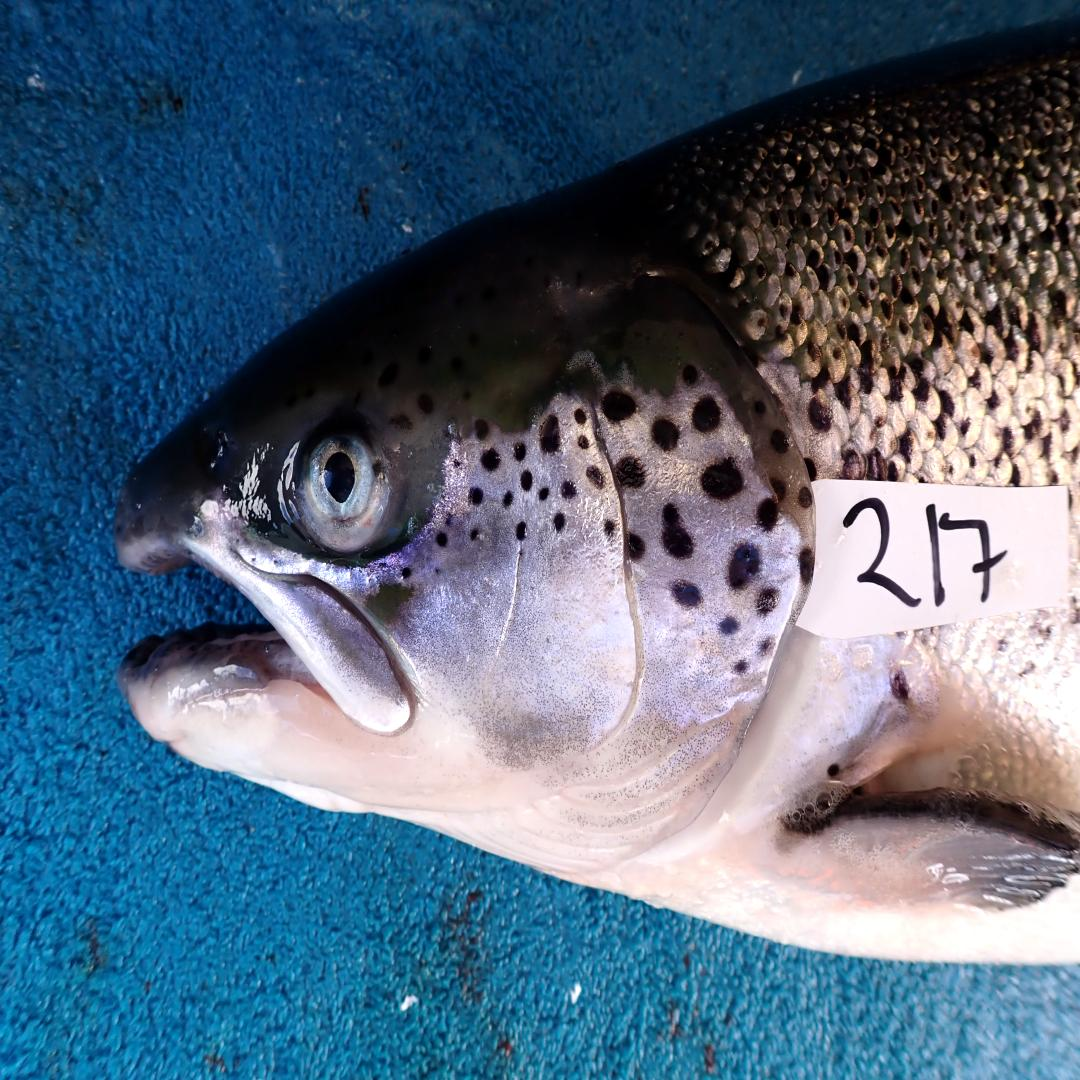roi: (403, 365, 815, 880)
